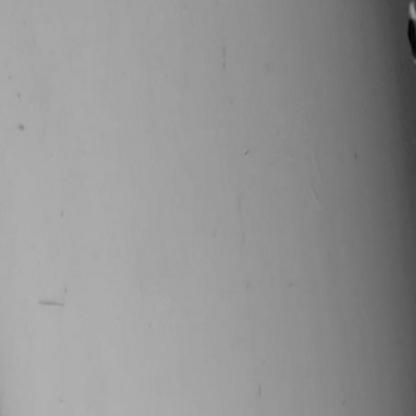kongdong: (399, 4, 416, 74)
